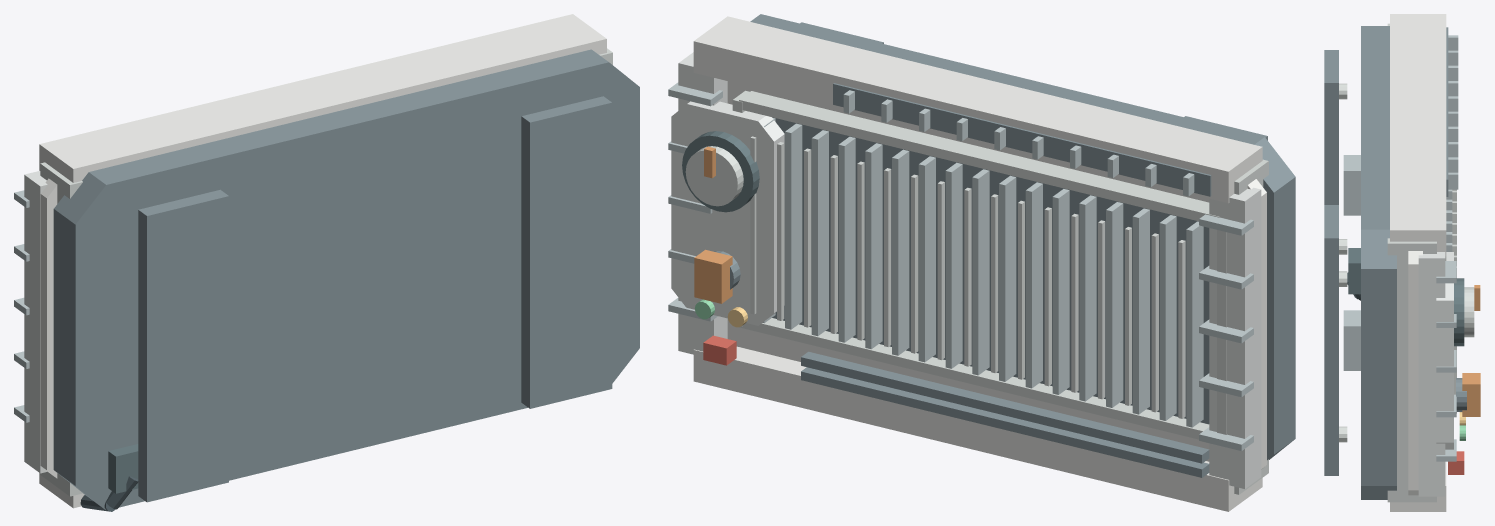
Rendered from wall_cabin_heater.glb.
3 views of the same model, side by side, from view 1: azimuth 30°, elevation 25°; view 2: azimuth 150°, elevation 25°; view 3: azimuth 270°, elevation 25° (orthographic). The views are drawn at different scales.
Parts seen in each view (by area): view 1: static_equipment_dark_alloy, static_equipment_white_painted, static_equipment_white_ceramic, static_equipment_rubber_gasket, static_equipment_satin_steel, static_equipment_alloy; view 2: static_equipment_alloy, static_equipment_white_painted, static_equipment_dark_alloy, static_equipment_white_ceramic, static_equipment_warm_panel, static_equipment_satin_steel, heat_level_dial_satin_steel, static_equipment_rubber_gasket, on_off_switch_orange, thermal_trip_button_safety_red; view 3: static_equipment_dark_alloy, static_equipment_white_painted, static_equipment_white_ceramic, static_equipment_alloy, static_equipment_satin_steel, static_equipment_rubber_gasket, on_off_switch_orange, heat_level_dial_satin_steel, static_equipment_warm_panel, thermal_trip_button_safety_red.
Part boxes in pixels (x1,y1,x2,y2): static_equipment_dark_alloy: (53,49,639,509); static_equipment_white_painted: (39,14,606,508); static_equipment_white_ceramic: (24,171,47,473); static_equipment_rubber_gasket: (108,444,138,493); static_equipment_satin_steel: (40,48,612,496); static_equipment_alloy: (14,190,29,422); static_equipment_alloy: (668,82,1253,450); static_equipment_white_painted: (693,16,1266,511); static_equipment_dark_alloy: (714,14,1295,477); static_equipment_white_ceramic: (671,52,1261,488); static_equipment_warm_panel: (750,136,1185,418); static_equipment_satin_steel: (732,90,1268,494); heat_level_dial_satin_steel: (685,146,743,206); static_equipment_rubber_gasket: (682,131,759,212); on_off_switch_orange: (694,249,732,303); thermal_trip_button_safety_red: (703,335,736,365); static_equipment_dark_alloy: (1324,26,1466,499); static_equipment_white_painted: (1390,14,1446,511); static_equipment_white_ceramic: (1418,252,1453,496); static_equipment_alloy: (1343,35,1458,461); static_equipment_satin_steel: (1339,23,1446,502); static_equipment_rubber_gasket: (1348,248,1464,346); on_off_switch_orange: (1462,373,1480,416); heat_level_dial_satin_steel: (1464,287,1474,337); static_equipment_warm_panel: (1452,189,1456,413); thermal_trip_button_safety_red: (1448,451,1464,474).
Size of the model in its own units: 0.836 by 0.4786 by 0.238.
